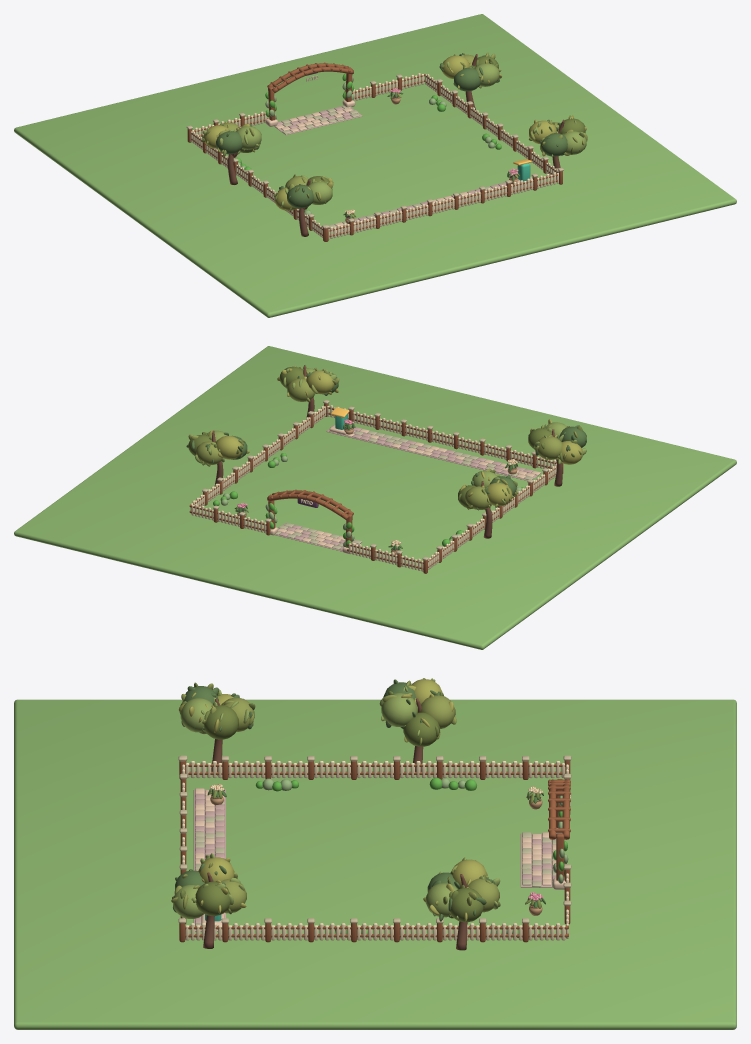
The model's file is room_yard.glb.
3 views of the same model, one above another, from view 1: azimuth 30°, elevation 25°; view 2: azimuth 150°, elevation 25°; view 3: azimuth 270°, elevation 25° (orthographic). The views are drawn at different scales.
Visible parts, largest first — view 1: Garden Ground.001, Garden picket fence, Garden canopy 1.001, Garden canopy 3.001, Garden canopy 0.001, Garden canopy 2.001, Garden stone path Floor 1, Garden stone path Floor -1; view 2: Garden Ground.001, Garden picket fence, Garden stone path Floor -1, Garden canopy 0.001, Garden canopy 2.001, Garden canopy 3.001, Garden canopy 1.001, Garden stone path Floor 1; view 3: Garden Ground.001, Garden picket fence, Garden canopy 2.001, Garden canopy 1.001, Garden canopy 3.001, Garden canopy 0.001, Garden stone path Floor -1, Garden stone path Floor 1.
Boxes of the visible parts, x1=… form: Garden Ground.001: x1=14, y1=14, x2=736, y2=317; Garden picket fence: x1=186, y1=73, x2=563, y2=241; Garden canopy 1.001: x1=529, y1=115, x2=587, y2=168; Garden canopy 3.001: x1=439, y1=52, x2=501, y2=110; Garden canopy 0.001: x1=273, y1=174, x2=333, y2=236; Garden canopy 2.001: x1=202, y1=121, x2=261, y2=184; Garden stone path Floor 1: x1=274, y1=105, x2=362, y2=134; Garden stone path Floor -1: x1=328, y1=182, x2=530, y2=232; Garden Ground.001: x1=14, y1=346, x2=736, y2=649; Garden picket fence: x1=189, y1=400, x2=563, y2=573; Garden stone path Floor -1: x1=326, y1=425, x2=541, y2=480; Garden canopy 0.001: x1=528, y1=419, x2=586, y2=486; Garden canopy 2.001: x1=458, y1=468, x2=517, y2=538; Garden canopy 3.001: x1=186, y1=430, x2=249, y2=486; Garden canopy 1.001: x1=277, y1=365, x2=339, y2=417; Garden stone path Floor 1: x1=274, y1=523, x2=362, y2=551; Garden Ground.001: x1=14, y1=699, x2=736, y2=1029; Garden picket fence: x1=178, y1=755, x2=571, y2=942; Garden canopy 2.001: x1=379, y1=678, x2=456, y2=771; Garden canopy 1.001: x1=171, y1=853, x2=246, y2=948; Garden canopy 3.001: x1=423, y1=857, x2=500, y2=950; Garden canopy 0.001: x1=178, y1=682, x2=255, y2=775; Garden stone path Floor -1: x1=193, y1=788, x2=225, y2=931; Garden stone path Floor 1: x1=520, y1=832, x2=556, y2=887.
Bounding box in the file's own units: 33 × 4.4 × 31.
